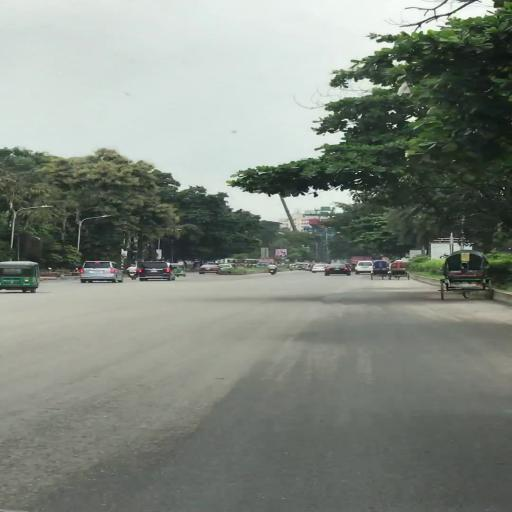car: (326, 265, 351, 276), (198, 265, 221, 275), (312, 265, 326, 273)
minivan: (355, 262, 373, 275)
motorbike: (127, 265, 140, 282), (266, 263, 279, 276)
rickshaw: (437, 251, 495, 303), (372, 262, 391, 282), (391, 261, 410, 281)
three wheelers (CNG): (1, 261, 42, 295), (176, 264, 188, 278)
van: (78, 262, 126, 284), (139, 262, 176, 282)
